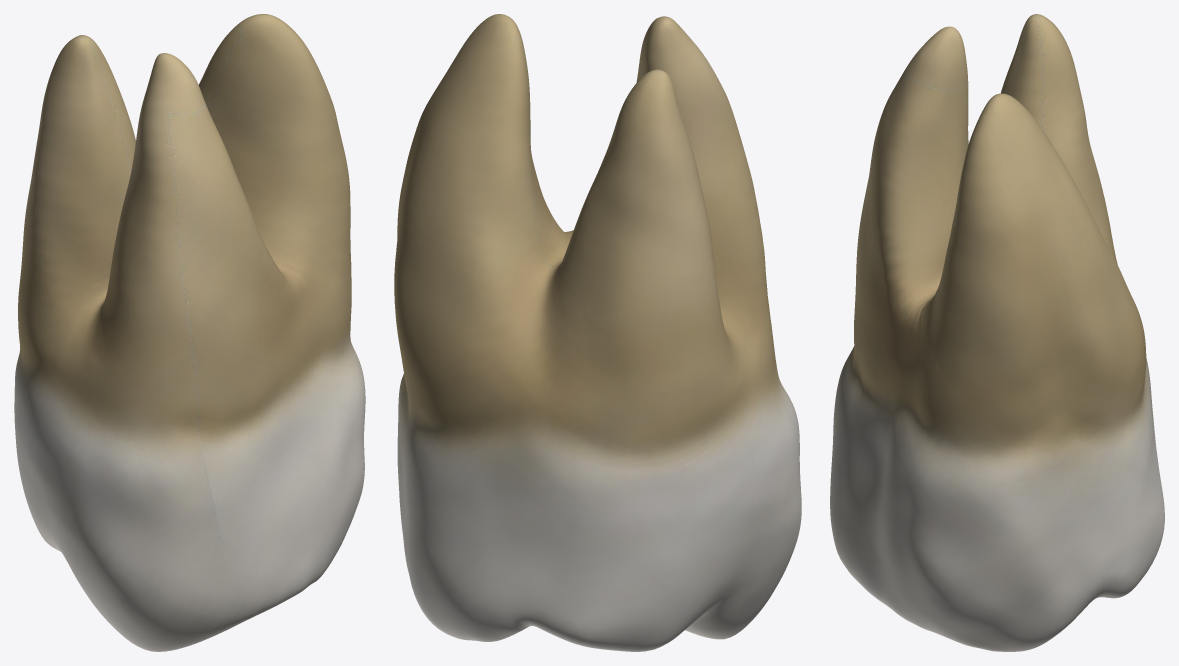
The picture shows the model from 3 angles, left to right: view 1: azimuth 30°, elevation 25°; view 2: azimuth 150°, elevation 25°; view 3: azimuth 270°, elevation 25°; orthographic projection. The views are drawn at different scales.
Visible parts, largest first — view 1: diente-17; view 2: diente-17; view 3: diente-17.
Part boxes in pixels (x1,y1,x2,y2): diente-17: [14, 14, 365, 651]; diente-17: [394, 14, 801, 651]; diente-17: [830, 14, 1164, 651].
Bounding box in the file's own units: 0.0112 × 0.019 × 0.0103.
1 material, 1 textured.
